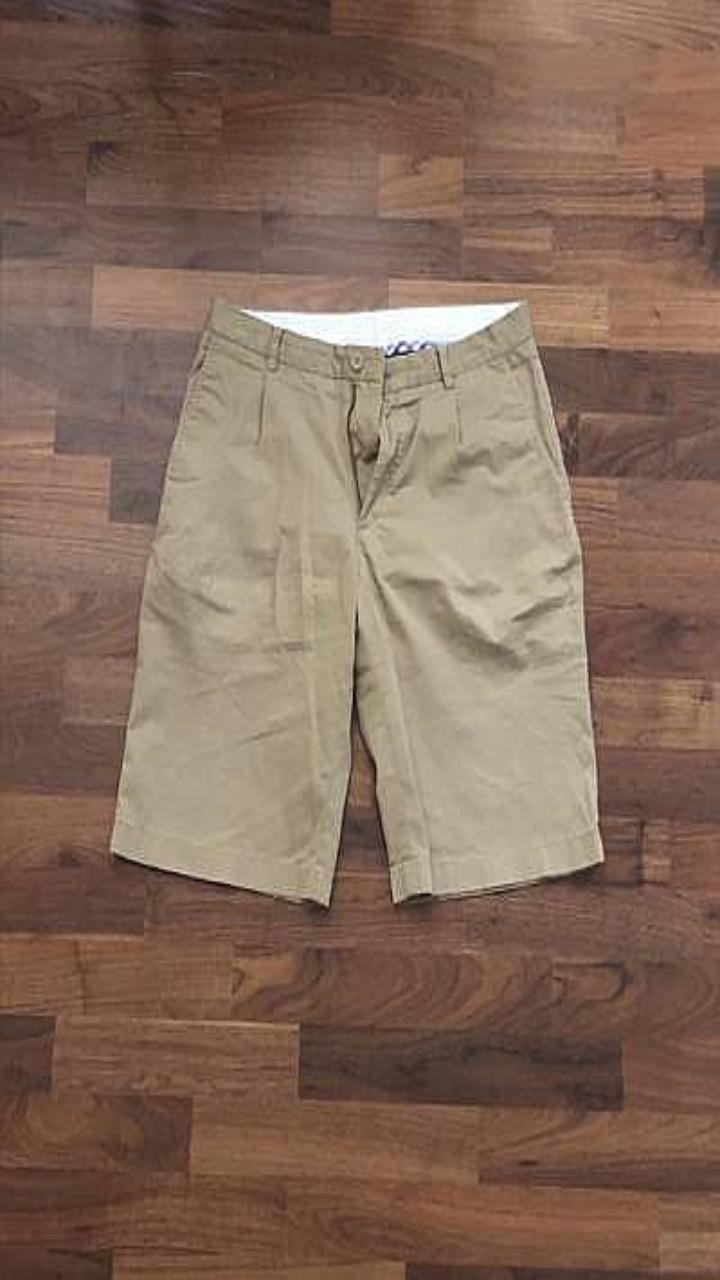Shorts: (111, 297, 603, 904)
